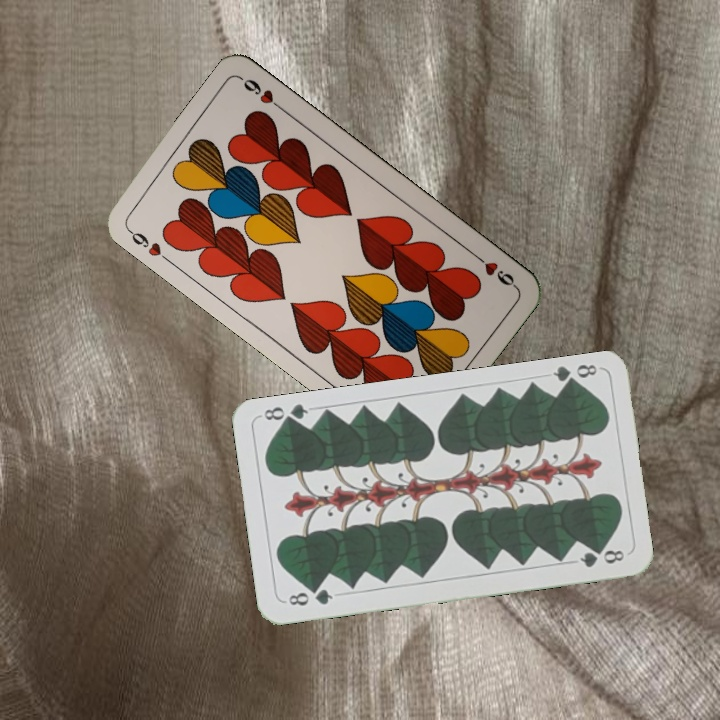G8: (549, 360, 599, 390), (284, 584, 336, 609)
H9: (123, 224, 173, 266), (469, 249, 519, 290)
